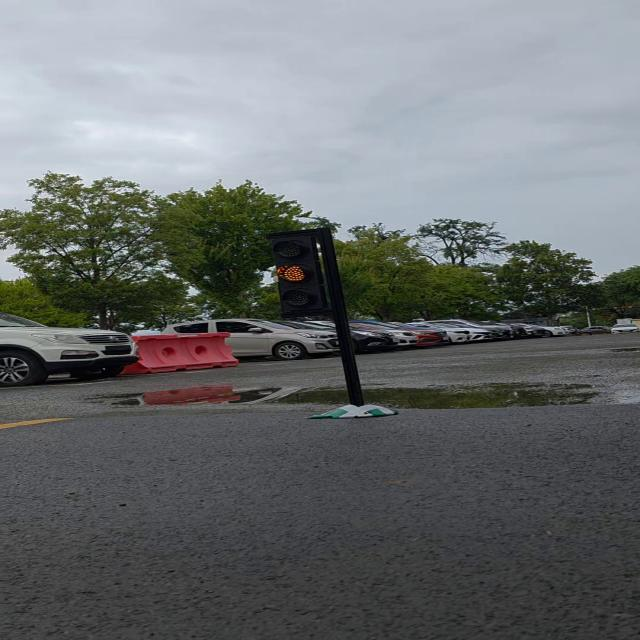yellow: (258, 223, 345, 319)
